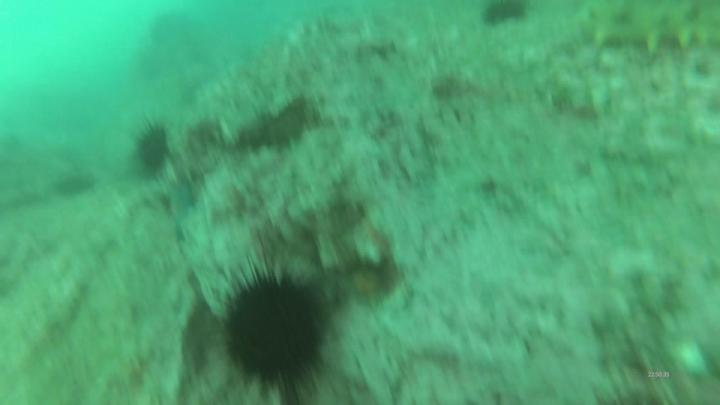echinus: (206, 256, 333, 403), (131, 116, 171, 177), (478, 1, 531, 32)
holothurian: (574, 1, 720, 66)
starfish: (166, 179, 195, 245)
